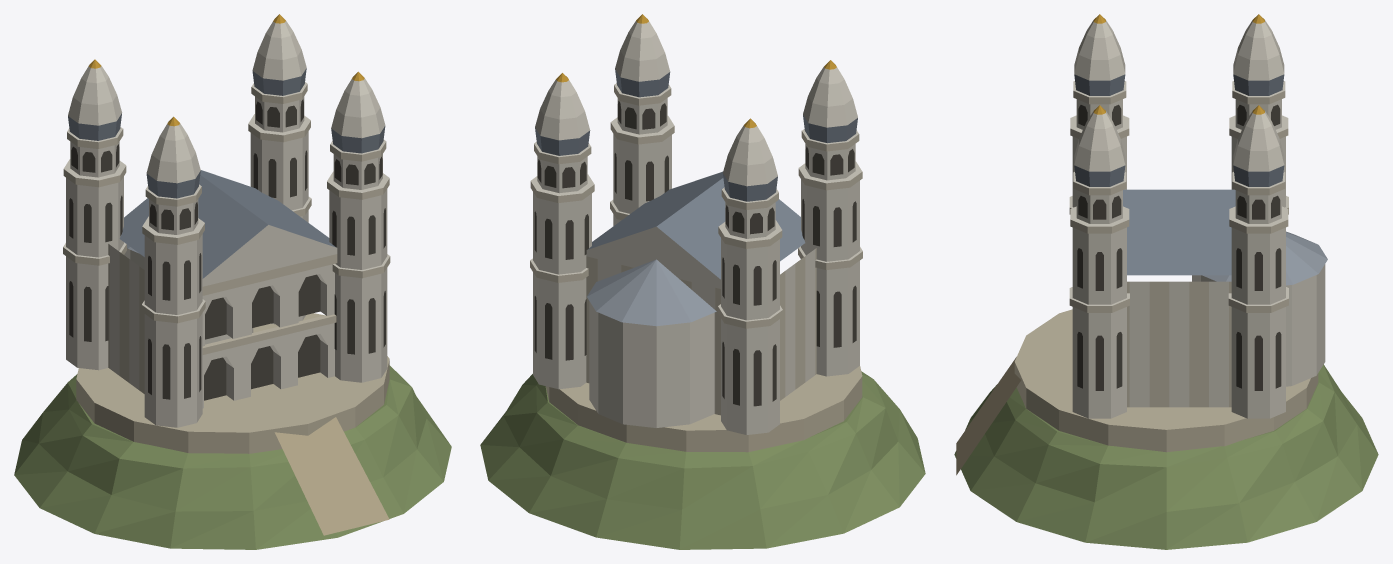
File: basilique2.glb
The picture shows the model from 3 angles, left to right: view 1: azimuth 30°, elevation 25°; view 2: azimuth 150°, elevation 25°; view 3: azimuth 270°, elevation 25°; orthographic projection.
Parts seen in each view (by area): view 1: basilique2; view 2: basilique2; view 3: basilique2.
Boxes of the visible parts, <box> form: basilique2: <box>14,14,451,549</box>; basilique2: <box>480,14,925,549</box>; basilique2: <box>954,14,1378,549</box>.
Size of the model in its own units: 1.76 by 1.7 by 1.65.
